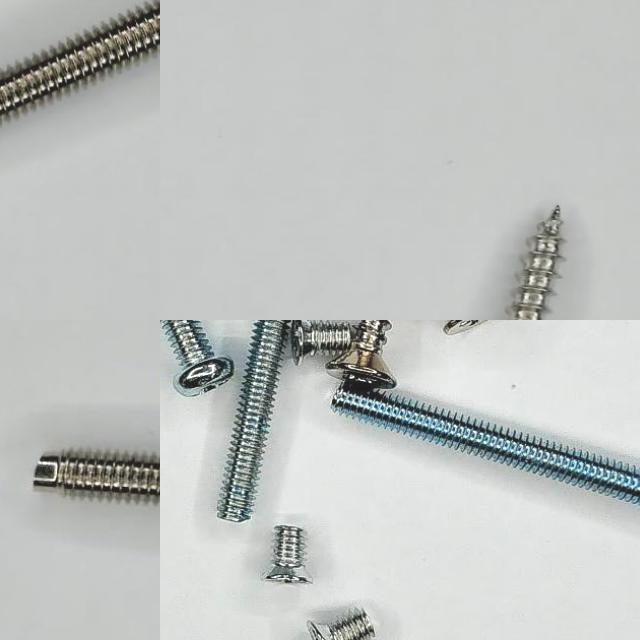Screw: (332, 384, 640, 505), (0, 0, 160, 117), (217, 320, 291, 523), (510, 206, 564, 320), (35, 450, 160, 497), (160, 320, 234, 397), (327, 320, 397, 389), (291, 320, 353, 364), (266, 526, 313, 584), (308, 609, 376, 640)
